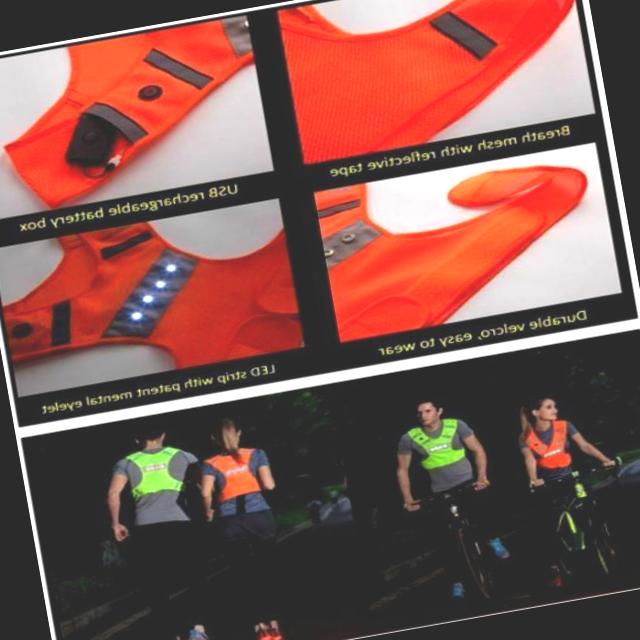vest: (112, 441, 200, 528), (398, 407, 484, 496), (195, 438, 271, 514), (516, 412, 574, 474)
